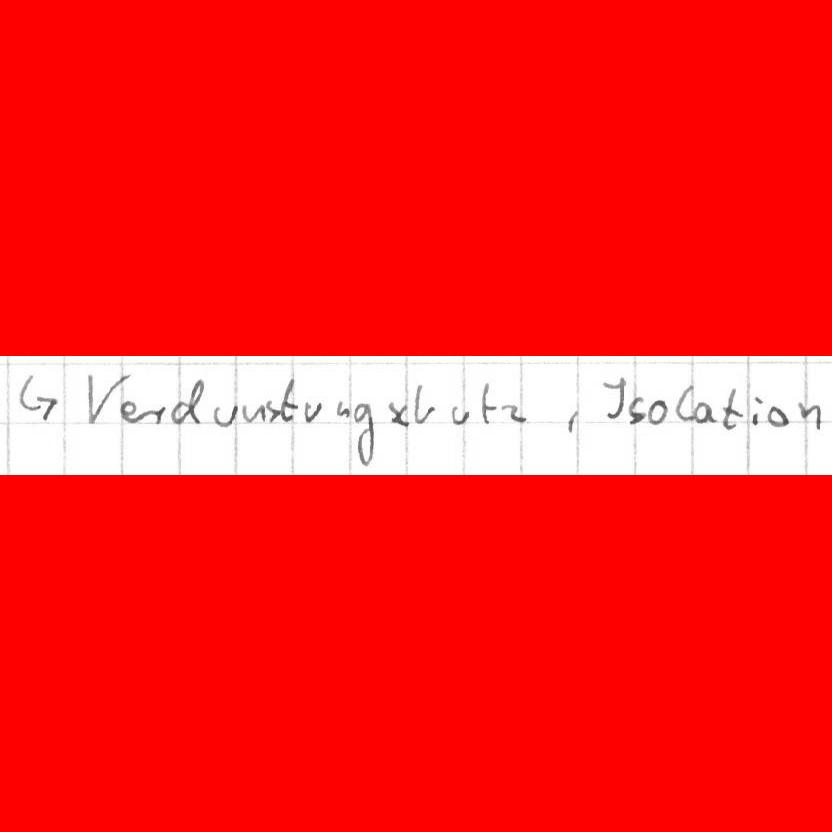Char: (86, 370, 125, 427), (17, 374, 58, 423), (168, 378, 205, 428), (352, 400, 375, 466), (718, 384, 743, 432), (602, 375, 626, 420), (412, 383, 436, 427), (279, 379, 299, 423), (796, 401, 822, 432), (479, 383, 498, 425), (213, 401, 241, 426), (676, 386, 694, 424), (765, 403, 789, 428), (387, 399, 409, 426), (627, 395, 647, 424), (692, 400, 716, 424), (141, 403, 167, 425), (647, 399, 668, 425), (241, 403, 266, 424), (119, 399, 139, 425), (450, 402, 472, 425), (301, 399, 322, 423), (503, 403, 526, 424), (564, 408, 581, 433), (751, 392, 763, 427), (335, 400, 352, 420), (266, 398, 279, 423)
